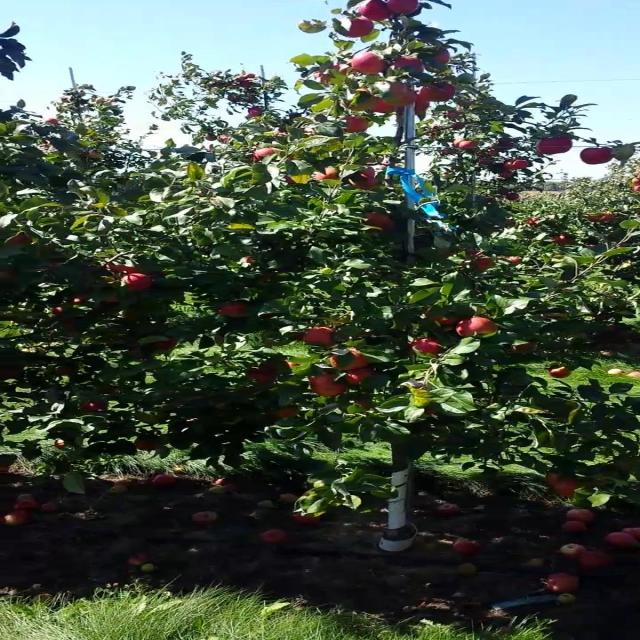apple: (355, 52, 389, 75), (312, 376, 348, 397), (333, 352, 370, 371), (419, 84, 455, 103), (461, 320, 498, 337), (362, 0, 393, 20), (340, 352, 370, 372), (305, 328, 336, 347), (348, 92, 377, 112), (426, 308, 460, 325), (540, 140, 576, 156), (582, 148, 615, 165), (348, 20, 377, 39), (554, 480, 581, 499), (262, 360, 297, 374), (390, 0, 420, 16), (127, 276, 155, 292), (248, 368, 276, 384), (412, 340, 441, 355), (348, 368, 375, 384), (355, 172, 377, 190), (220, 304, 249, 317), (348, 116, 370, 133), (106, 264, 140, 275), (412, 96, 430, 114), (134, 440, 160, 452), (433, 314, 460, 325), (390, 84, 411, 98), (504, 160, 533, 170), (547, 368, 571, 380), (399, 92, 418, 107), (397, 60, 425, 70), (276, 408, 299, 420), (255, 148, 277, 160), (369, 216, 391, 228), (156, 340, 178, 352), (319, 168, 341, 180), (376, 100, 396, 113), (547, 472, 564, 487), (433, 316, 460, 325), (454, 140, 476, 151), (433, 52, 453, 64), (511, 344, 537, 353), (476, 260, 496, 271), (333, 64, 354, 74), (6, 368, 23, 380), (355, 400, 375, 410), (497, 140, 517, 150), (284, 176, 309, 184), (70, 296, 92, 305), (84, 404, 108, 412), (13, 236, 32, 246), (404, 92, 418, 105), (554, 236, 574, 245), (56, 368, 78, 376), (420, 88, 432, 101), (63, 320, 78, 329), (419, 100, 430, 112), (106, 296, 121, 304), (319, 76, 332, 84), (56, 440, 68, 448), (468, 252, 484, 257), (447, 112, 460, 118), (56, 308, 64, 316), (604, 216, 613, 221), (511, 260, 521, 264)
